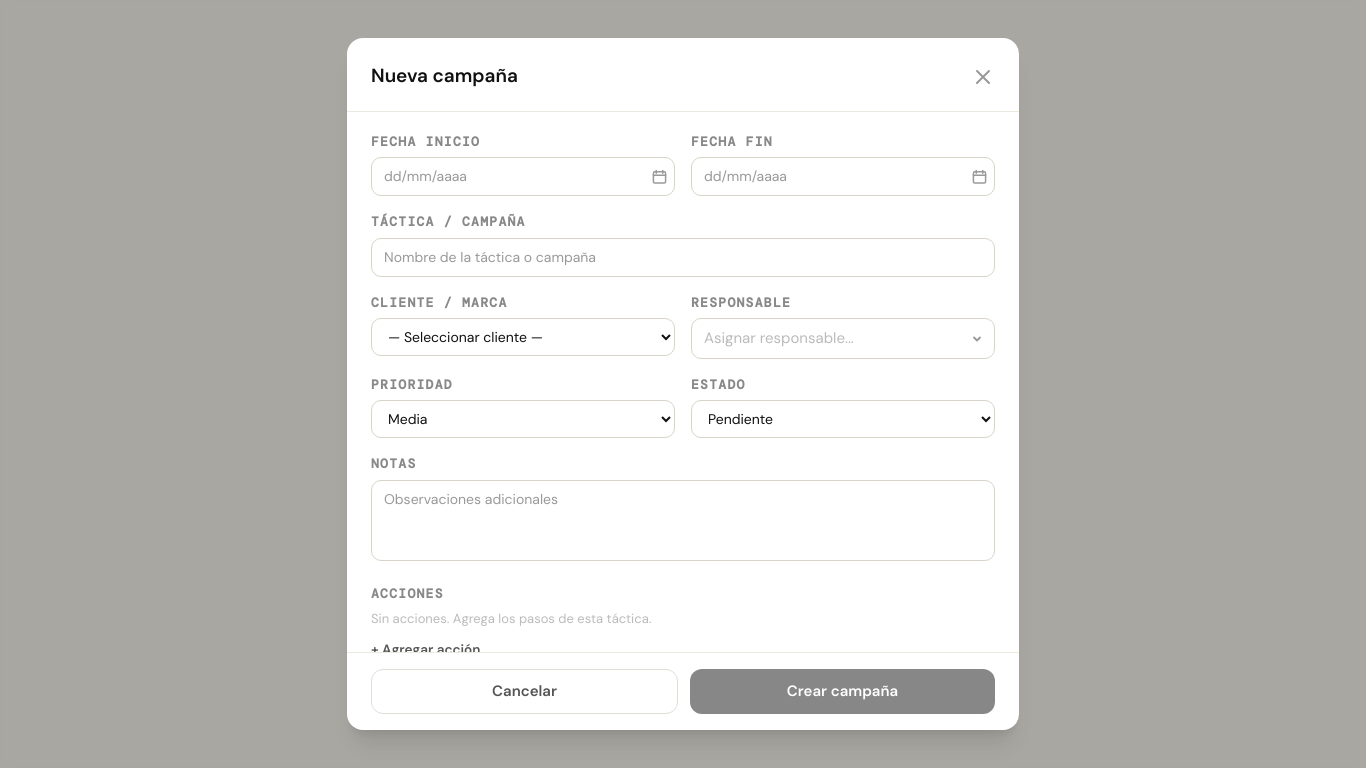
AdsForm — cliente y responsable › al abrir el picker de responsable se muestran los usuarios de la empresa
Expected: the text "Asignar responsable..." is shown, [704,328,854,348]
# Abrir el picker
Click the button "Asignar responsable...": click(843, 339) [691,318,995,359]
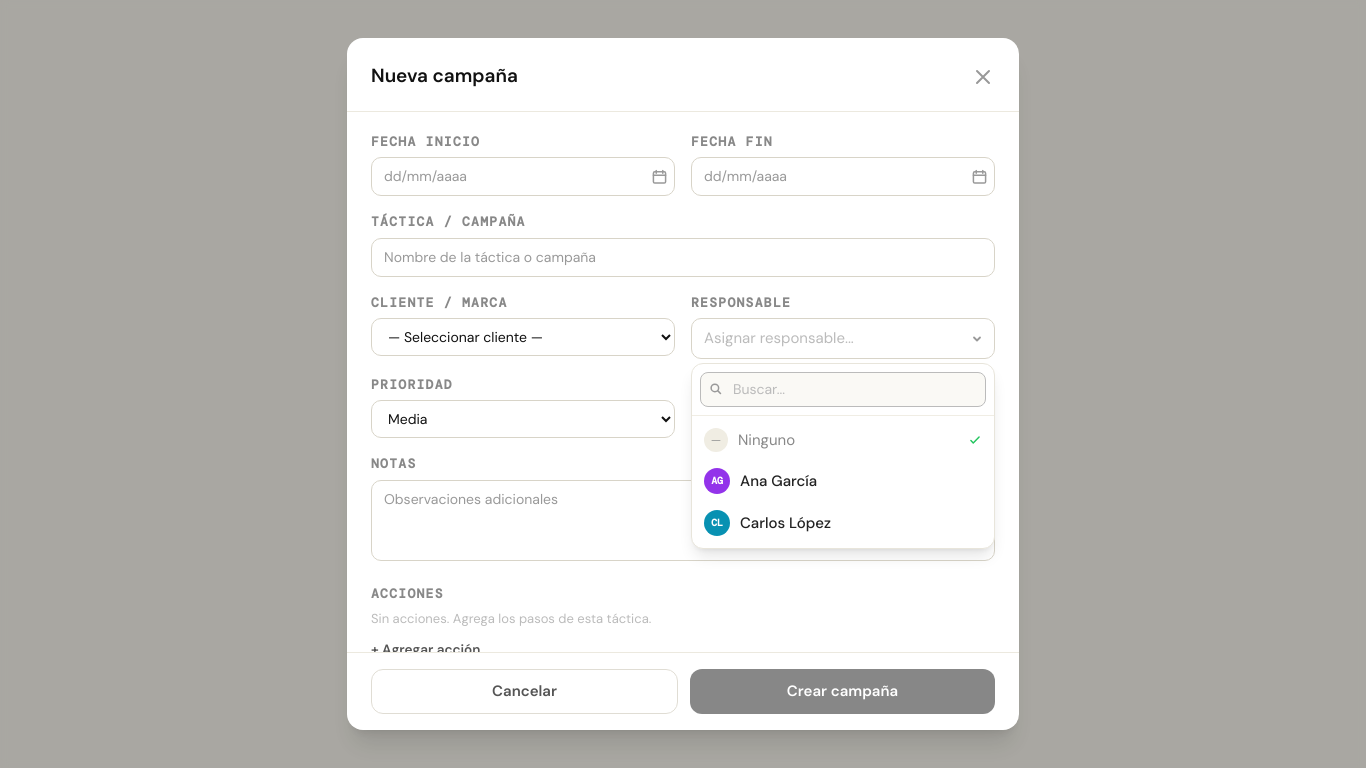
Expected: the text "Ana García" is shown, [740,471,817,491]
Expected: the text "Carlos López" is shown, [740,513,831,533]
